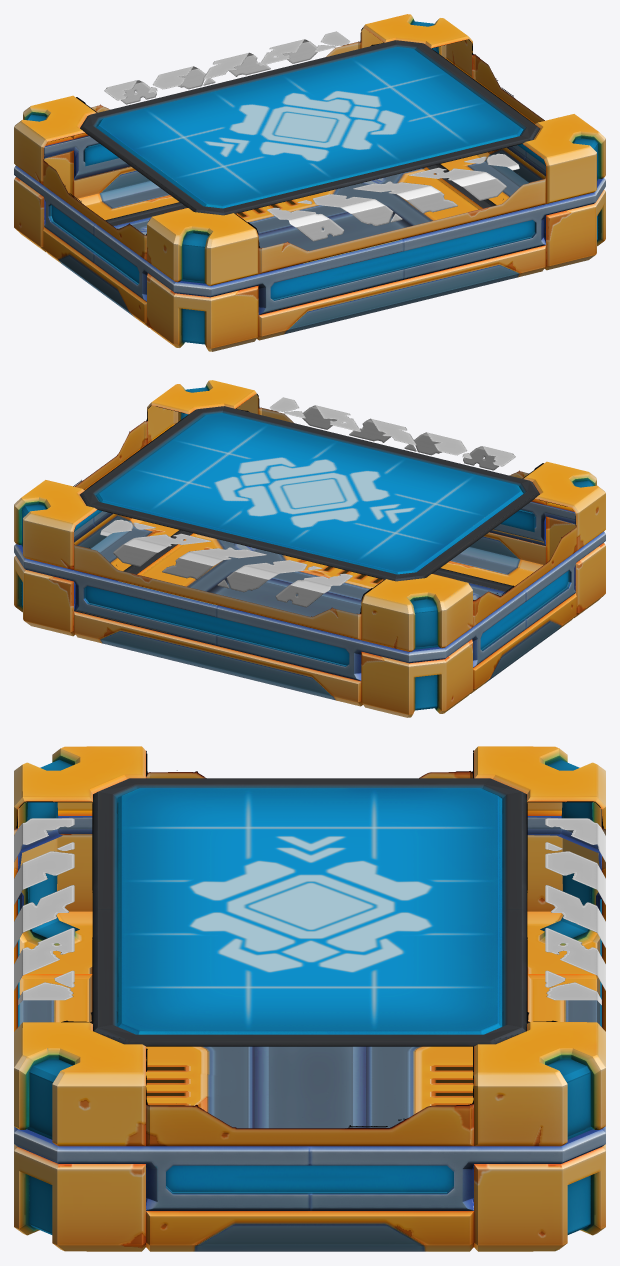
File: obj_interactive_builderguideblock01.fbx
3 renders of one model, top to bottom at view 1: azimuth 30°, elevation 25°; view 2: azimuth 150°, elevation 25°; view 3: azimuth 270°, elevation 25°, orthographic. The views are drawn at different scales.
Visible parts, largest first — view 1: builderguideblock_015_lp.001; view 2: builderguideblock_015_lp.001; view 3: builderguideblock_015_lp.001.
Boxes of the visible parts, x1,y1,x2,y2 form: builderguideblock_015_lp.001: (14,14,605,351); builderguideblock_015_lp.001: (14,380,605,717); builderguideblock_015_lp.001: (14,746,605,1251).
Size of the model in its own units: 4 by 1 by 3.
